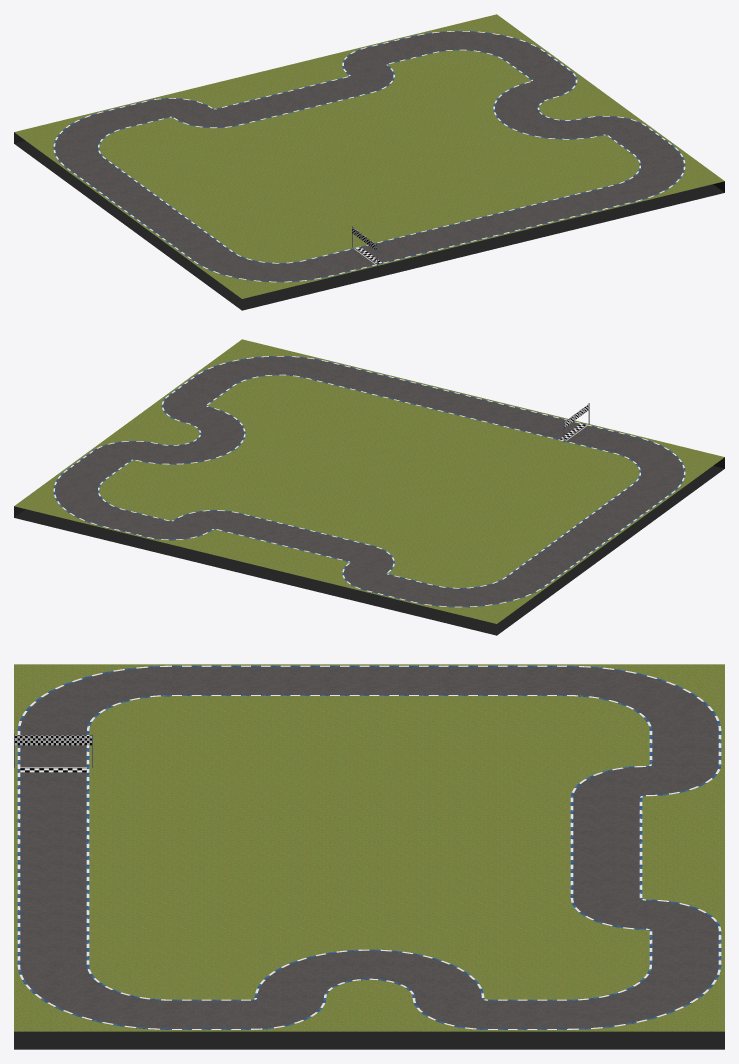
Rendered from minimap2.glb.
3 renders of one model, top to bottom at view 1: azimuth 30°, elevation 25°; view 2: azimuth 150°, elevation 25°; view 3: azimuth 270°, elevation 25°, orthographic. The views are drawn at different scales.
Visible parts, largest first — view 1: track1.001, support2_black; view 2: track1.001, support2_black; view 3: track1.001, support2_black, startLine.
Part boxes in pixels (x1,y1,x2,y2): track1.001: (14, 14, 724, 298); support2_black: (14, 132, 724, 310); track1.001: (14, 339, 724, 623); support2_black: (14, 457, 724, 635); track1.001: (14, 664, 724, 1031); support2_black: (14, 1031, 724, 1049); startLine: (14, 734, 92, 772).
Bounding box in the file's own units: 4.35 × 0.2816 × 3.56.
Materials: 6 (5 with a texture image).
